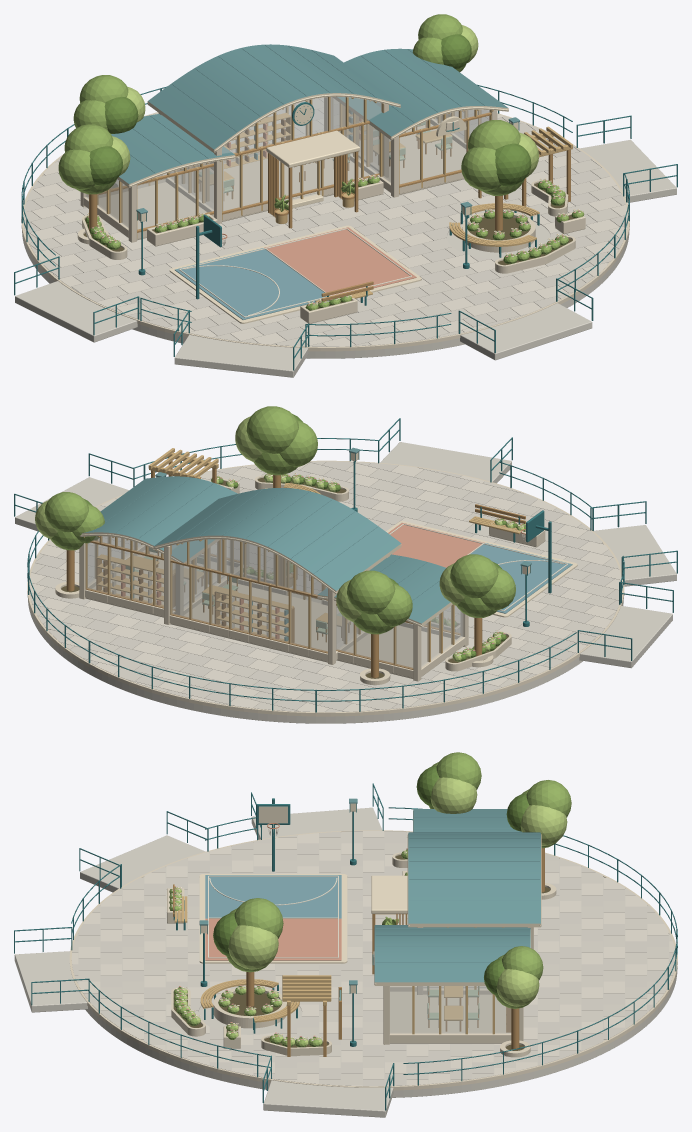
Rendered from education.glb.
3 views of the same model, one above another, from view 1: azimuth 30°, elevation 25°; view 2: azimuth 150°, elevation 25°; view 3: azimuth 270°, elevation 25° (orthographic).
Visible parts, largest first — view 1: Site_Components__WarmLimestonePaver0, Site_Components__WarmLimestonePaver1, Site_Components__stone, Site_Components__WarmLimestonePaver2, LearningHall__roof, Landscape_Components__leaf, LearningHall__Clear warm architectural glazing, LibraryReadingWing__roof, OutdoorActivityHalfCourt__Muted blue court, Landscape_Components__leafDark, OutdoorActivityHalfCourt__Muted clay court, Landscape_Components__cream (+30 smaller); view 2: Site_Components__WarmLimestonePaver1, Site_Components__WarmLimestonePaver2, Site_Components__WarmLimestonePaver0, Site_Components__stone, Landscape_Components__leaf, LearningHall__Clear warm architectural glazing, LearningHall__roof, Site_Components__rail, LibraryReadingWing__roof, LibraryReadingWing__Clear warm architectural glazing, Site_Components__cream, WestClassroomWing__Clear warm architectural glazing (+29 smaller); view 3: Site_Components__WarmLimestonePaver2, Site_Components__WarmLimestonePaver1, Site_Components__WarmLimestonePaver0, Site_Components__stone, LearningHall__roof, LibraryReadingWing__roof, Landscape_Components__leaf, Landscape_Components__leafLight, Site_Components__rail, LibraryReadingWing__Clear warm architectural glazing, OutdoorActivityHalfCourt__Muted blue court, Site_Components__cream (+20 smaller).
Boxes of the visible parts, x1=… form: Site_Components__WarmLimestonePaver0: x1=23, y1=98, x2=622, y2=346; Site_Components__WarmLimestonePaver1: x1=30, y1=98, x2=627, y2=346; Site_Components__stone: x1=15, y1=139, x2=676, y2=377; Site_Components__WarmLimestonePaver2: x1=23, y1=105, x2=627, y2=344; LearningHall__roof: x1=148, y1=44, x2=399, y2=149; Landscape_Components__leaf: x1=58, y1=14, x2=584, y2=310; LearningHall__Clear warm architectural glazing: x1=170, y1=97, x2=381, y2=211; LibraryReadingWing__roof: x1=337, y1=48, x2=507, y2=136; OutdoorActivityHalfCourt__Muted blue court: x1=175, y1=248, x2=326, y2=319; Landscape_Components__leafDark: x1=85, y1=34, x2=577, y2=310; OutdoorActivityHalfCourt__Muted clay court: x1=264, y1=227, x2=416, y2=295; Landscape_Components__cream: x1=77, y1=112, x2=585, y2=323; Site_Components__WarmLimestonePaver1: x1=29, y1=462, x2=622, y2=712; Site_Components__WarmLimestonePaver2: x1=30, y1=461, x2=618, y2=711; Site_Components__WarmLimestonePaver0: x1=31, y1=461, x2=619, y2=712; Site_Components__stone: x1=15, y1=442, x2=676, y2=723; Landscape_Components__leaf: x1=44, y1=406, x2=525, y2=658; LearningHall__Clear warm architectural glazing: x1=171, y1=539, x2=361, y2=652; LearningHall__roof: x1=154, y1=488, x2=401, y2=590; Site_Components__rail: x1=14, y1=418, x2=677, y2=712; LibraryReadingWing__roof: x1=82, y1=476, x2=237, y2=562; LibraryReadingWing__Clear warm architectural glazing: x1=87, y1=536, x2=227, y2=609; Site_Components__cream: x1=27, y1=460, x2=624, y2=716; WestClassroomWing__Clear warm architectural glazing: x1=336, y1=605, x2=463, y2=668; Site_Components__WarmLimestonePaver2: x1=72, y1=831, x2=675, y2=1086; Site_Components__WarmLimestonePaver1: x1=71, y1=831, x2=674, y2=1086; Site_Components__WarmLimestonePaver0: x1=72, y1=831, x2=675, y2=1086; Site_Components__stone: x1=14, y1=807, x2=677, y2=1117; LearningHall__roof: x1=408, y1=832, x2=540, y2=923; LibraryReadingWing__roof: x1=374, y1=925, x2=530, y2=982; Landscape_Components__leaf: x1=169, y1=752, x2=571, y2=1047; Landscape_Components__leafLight: x1=176, y1=777, x2=567, y2=1046; Site_Components__rail: x1=14, y1=783, x2=677, y2=1110; LibraryReadingWing__Clear warm architectural glazing: x1=390, y1=986, x2=510, y2=1033; OutdoorActivityHalfCourt__Muted blue court: x1=205, y1=875, x2=341, y2=918; Site_Components__cream: x1=69, y1=830, x2=677, y2=1090.
Bounding box in the file's own units: 27.98 × 5.3 × 25.81.
